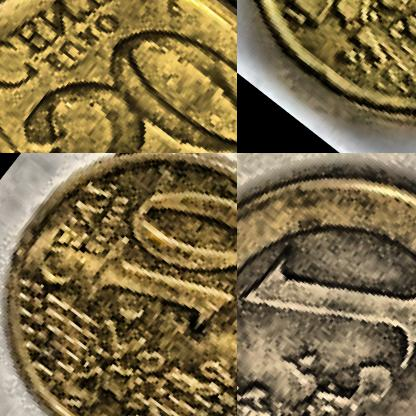coin: (0, 153, 236, 415), (237, 153, 415, 415), (0, 0, 236, 152), (237, 0, 415, 152)
